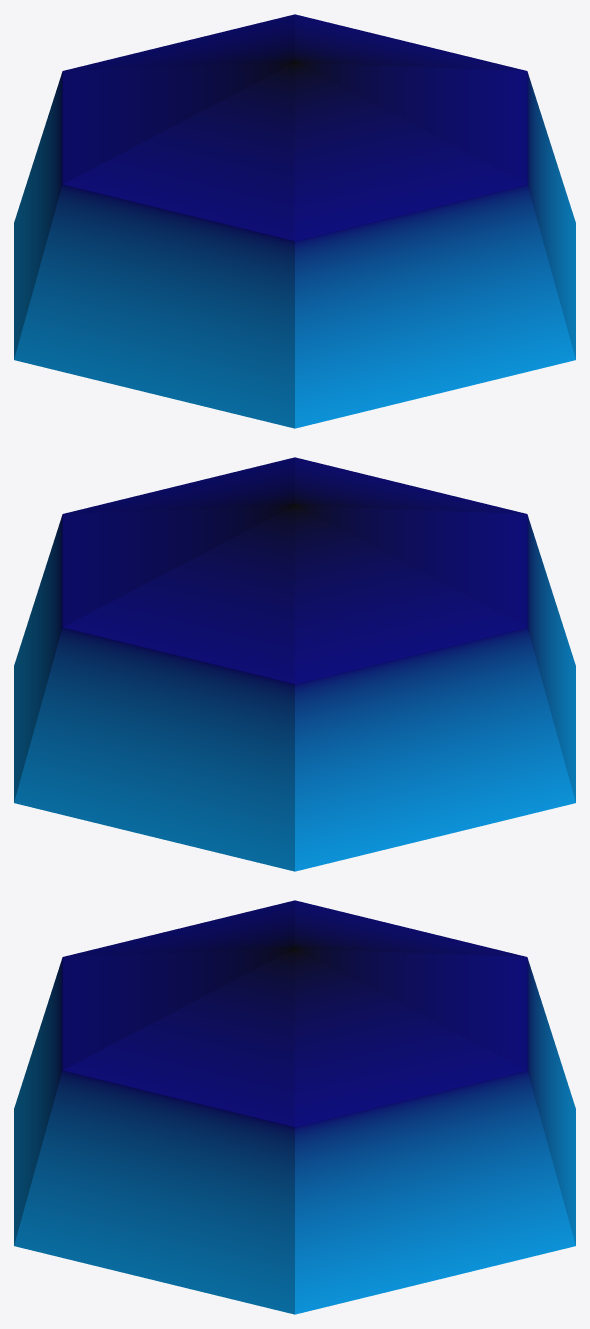
Rendered from old_frappe_64-old_frappe_64_V.glb.
3 views of the same model, one above another, from view 1: azimuth 30°, elevation 25°; view 2: azimuth 150°, elevation 25°; view 3: azimuth 270°, elevation 25° (orthographic).
Visible parts, largest first — view 1: old_frappe_64_V; view 2: old_frappe_64_V; view 3: old_frappe_64_V.
Boxes of the visible parts, x1=… form: old_frappe_64_V: x1=14, y1=14, x2=575, y2=428; old_frappe_64_V: x1=14, y1=457, x2=575, y2=871; old_frappe_64_V: x1=14, y1=900, x2=575, y2=1314.
Size of the model in its own units: 683 by 266 by 592.
1 material, 1 textured.
